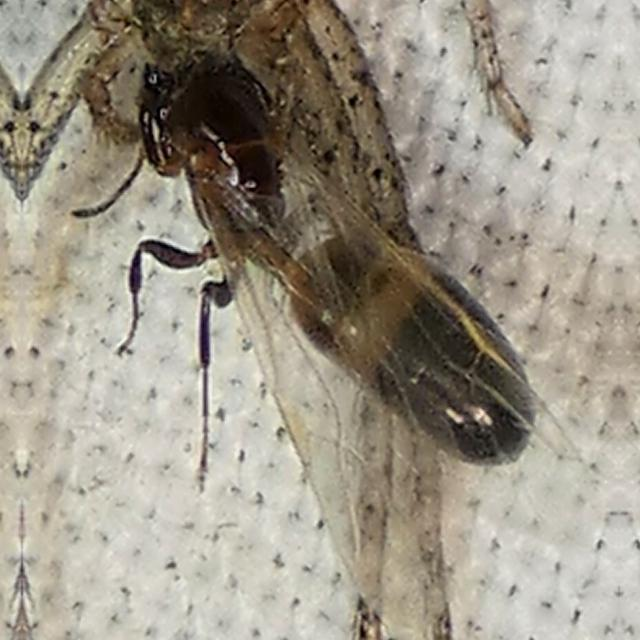Colobopsis: (107, 42, 591, 514)
